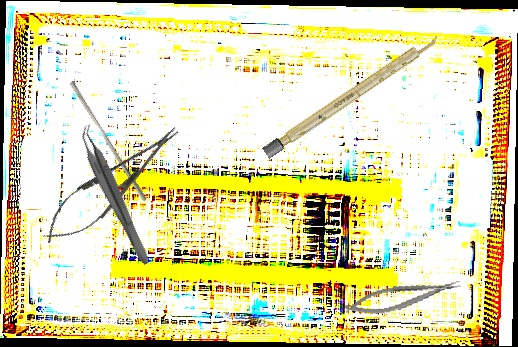Needle Holder: (33, 114, 191, 256), (342, 274, 464, 321)
Pusher: (65, 80, 152, 202)
Scalpel Handle: (262, 32, 441, 159)
Tissue Forceps: (72, 123, 159, 267)
